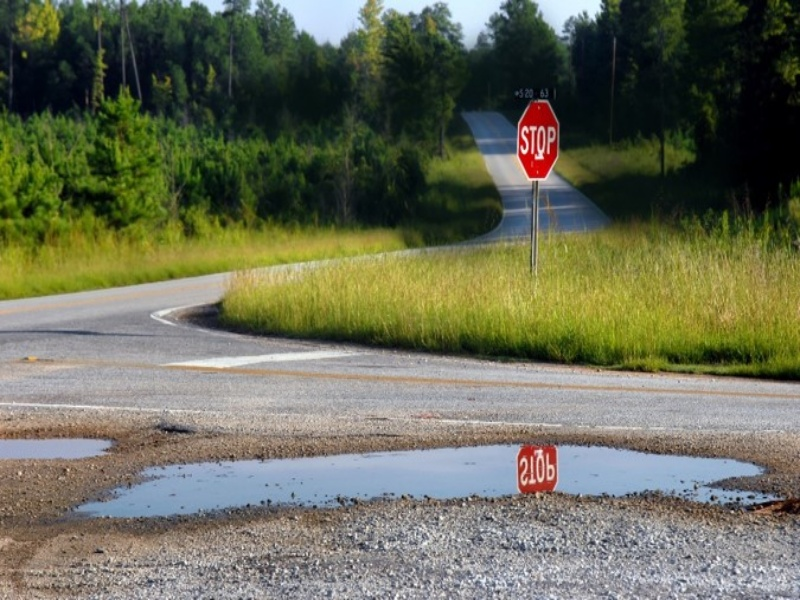stop sign: (515, 98, 563, 183)
